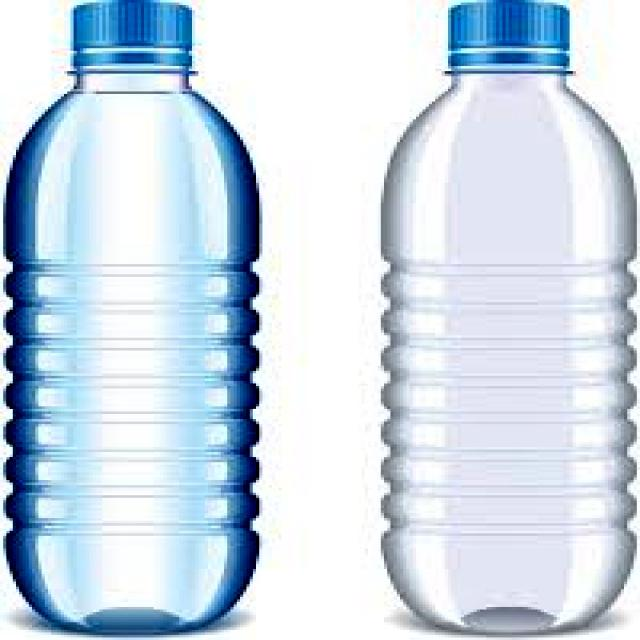Plastic: (371, 0, 640, 636), (2, 0, 264, 636)
